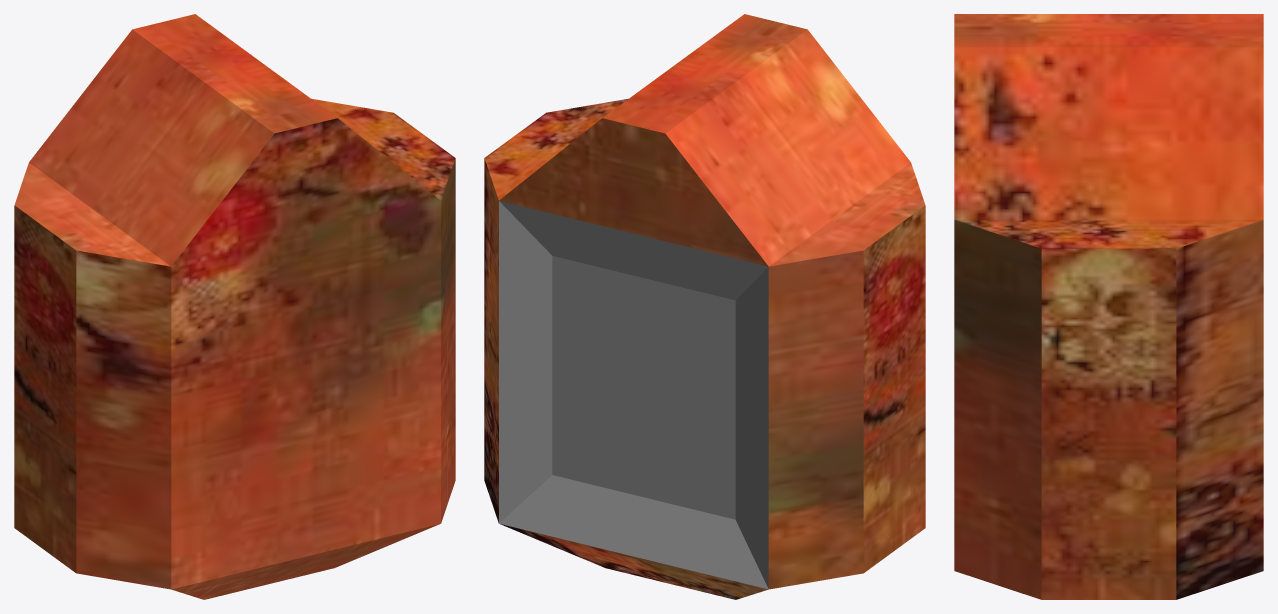
File: PickUpModel.fbx
The picture shows the model from 3 angles, left to right: view 1: azimuth 30°, elevation 25°; view 2: azimuth 150°, elevation 25°; view 3: azimuth 270°, elevation 25°; orthographic projection. The views are drawn at different scales.
Visible parts, largest first — view 1: pCube8; view 2: pCube8; view 3: pCube8.
Part boxes in pixels (x1,y1,x2,y2): pCube8: (14, 14, 455, 599); pCube8: (484, 14, 925, 599); pCube8: (954, 14, 1263, 599).
Size of the model in its own units: 242 by 296 by 158.
Materials: 3 (1 with a texture image).
